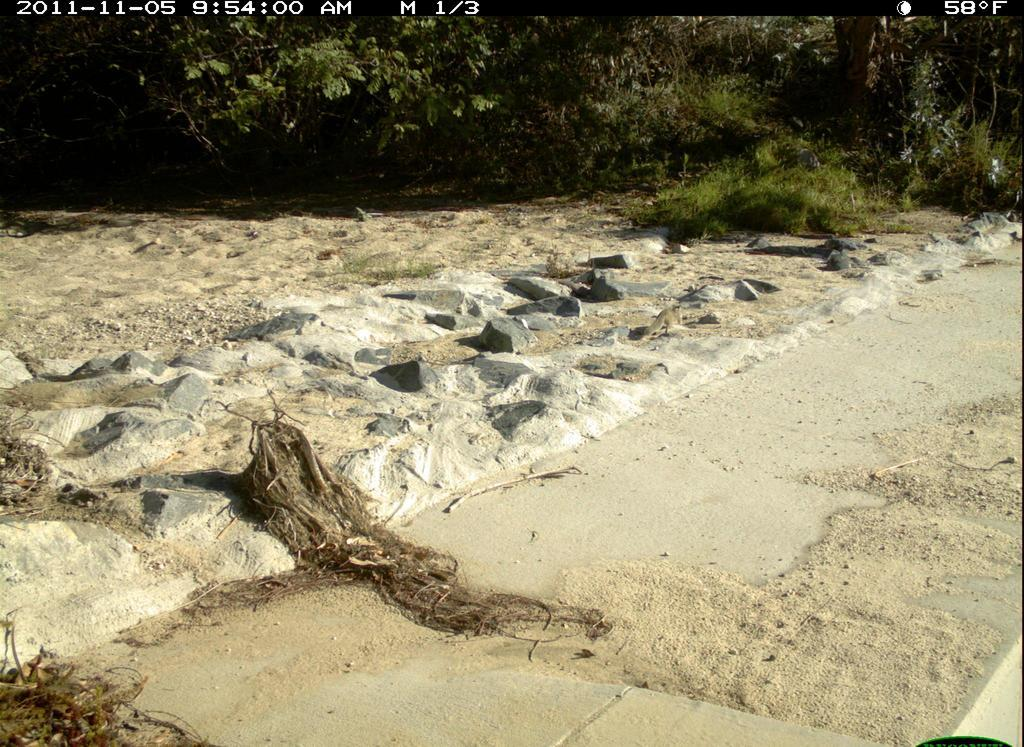squirrel: (640, 299, 690, 345)
